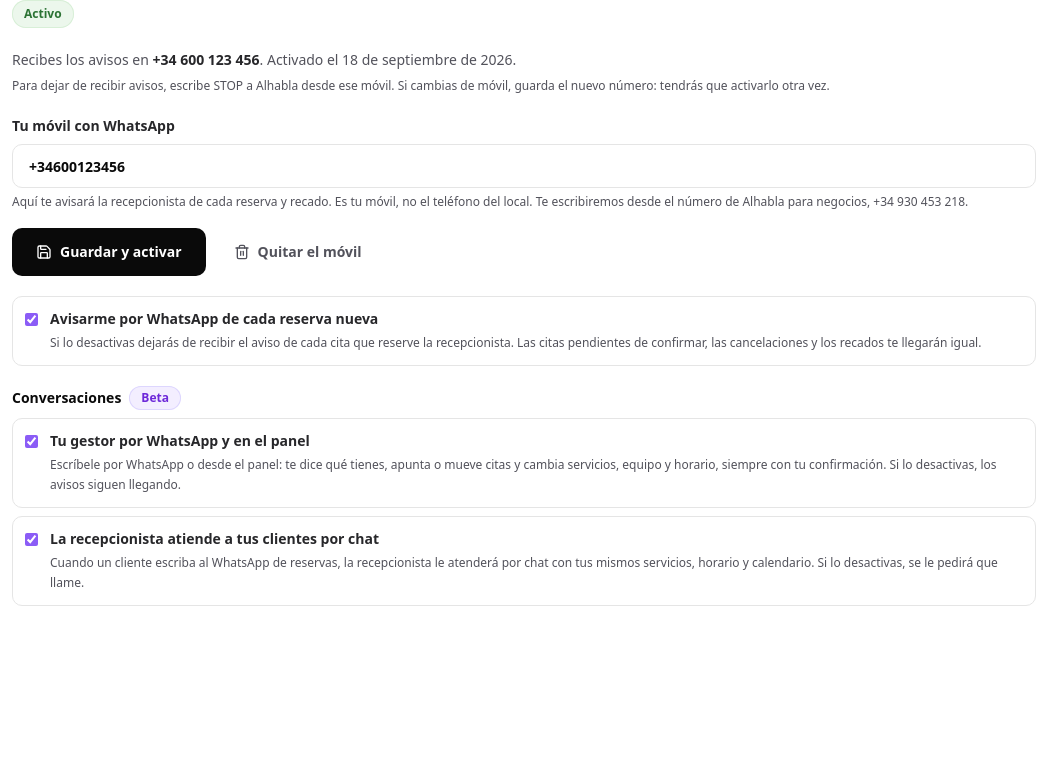
WhatsappDueno › si el backend no devuelve la preferencia (versión antigua) no la da por guardada
The image size is (1048, 768).
Click the checkbox labelled "Avisarme por WhatsApp de cada reserva nueva".
click(32, 320)  # box [25,313,38,326]
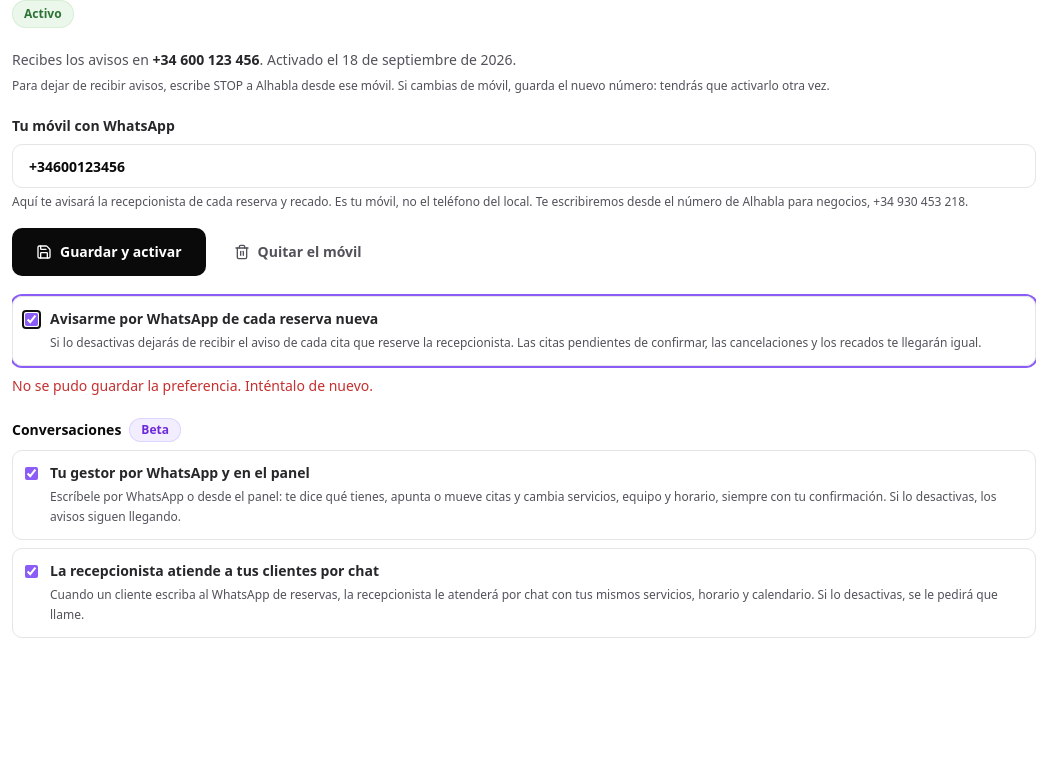
Expected: the text "No se pudo guardar la preferencia. Inténtalo de nuevo." is shown, [12,376,373,395]
